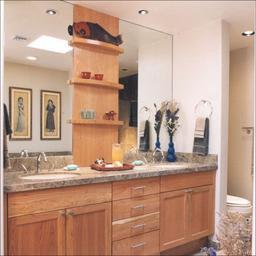Lavamanos: (16, 150, 88, 183), (135, 147, 188, 171)
Sanitario: (229, 192, 252, 233)
